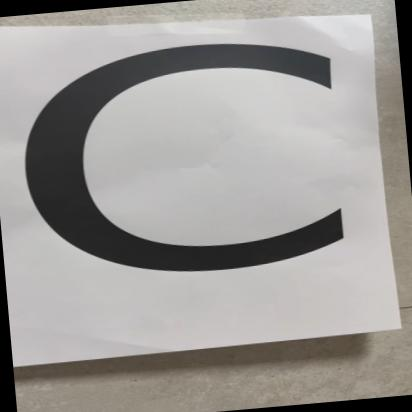seat: (0, 0, 411, 381)
